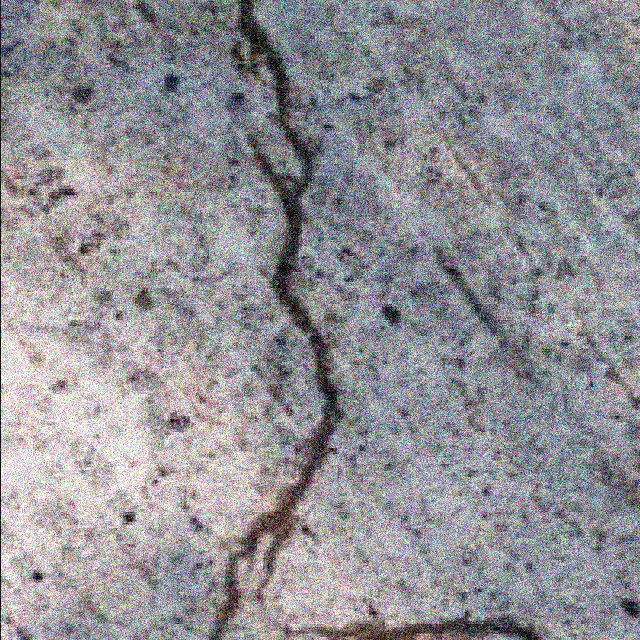SurfaceCrack: (164, 0, 374, 640)
